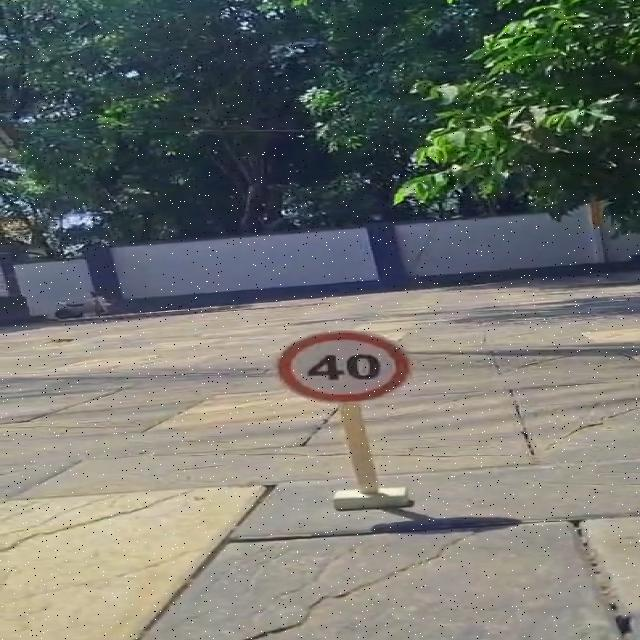Speed40: (264, 326, 424, 408)
